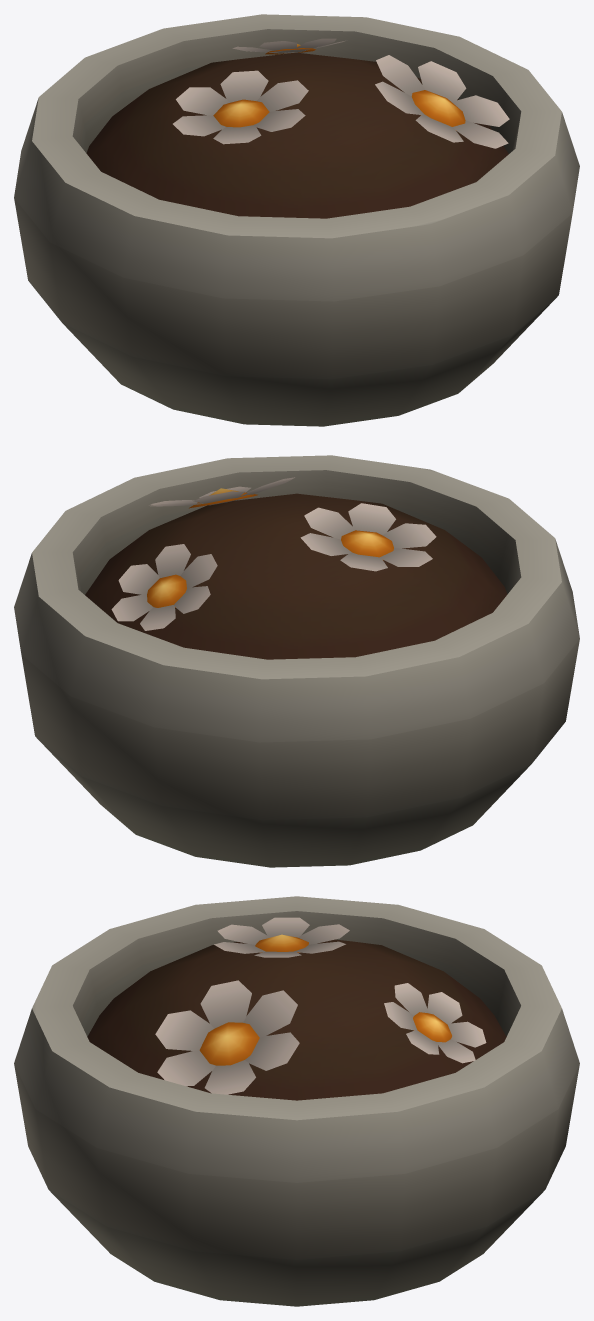
Rendered from Plant_Pot_2A.fbx.
The picture shows the model from 3 angles, top to bottom: view 1: azimuth 30°, elevation 25°; view 2: azimuth 150°, elevation 25°; view 3: azimuth 270°, elevation 25°; orthographic projection.
Parts seen in each view (by area): view 1: Plant_Pot_2A; view 2: Plant_Pot_2A; view 3: Plant_Pot_2A.
Part boxes in pixels (<box>): Plant_Pot_2A: <box>14,14,579,426</box>; Plant_Pot_2A: <box>14,455,579,867</box>; Plant_Pot_2A: <box>14,896,579,1306</box>.
Size of the model in its own units: 201 by 104 by 201.
